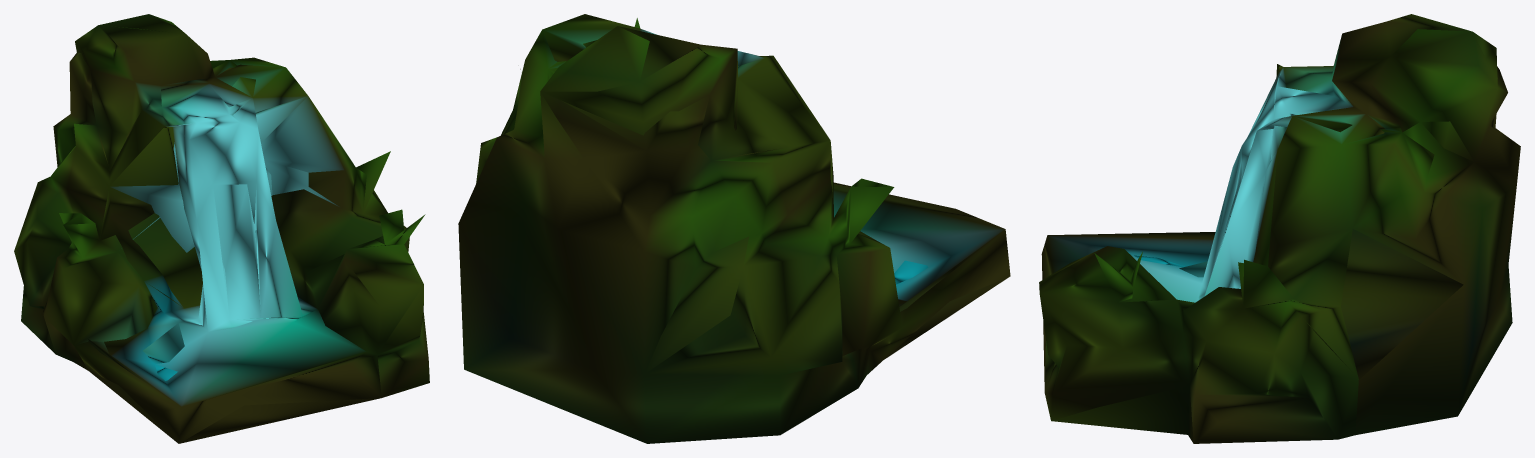
File: gen3d-jungle-waterfall-lod1.glb
3 renders of one model, left to right at view 1: azimuth 30°, elevation 25°; view 2: azimuth 150°, elevation 25°; view 3: azimuth 270°, elevation 25°, orthographic. The views are drawn at different scales.
Parts seen in each view (by area): view 1: part_0; view 2: part_0; view 3: part_0.
Part boxes in pixels (x1,y1,x2,y2): part_0: (14,14,429,443); part_0: (458,14,1010,443); part_0: (1039,14,1520,443).
Bounding box in the file's own units: 1.22 × 0.9821 × 1.35.
